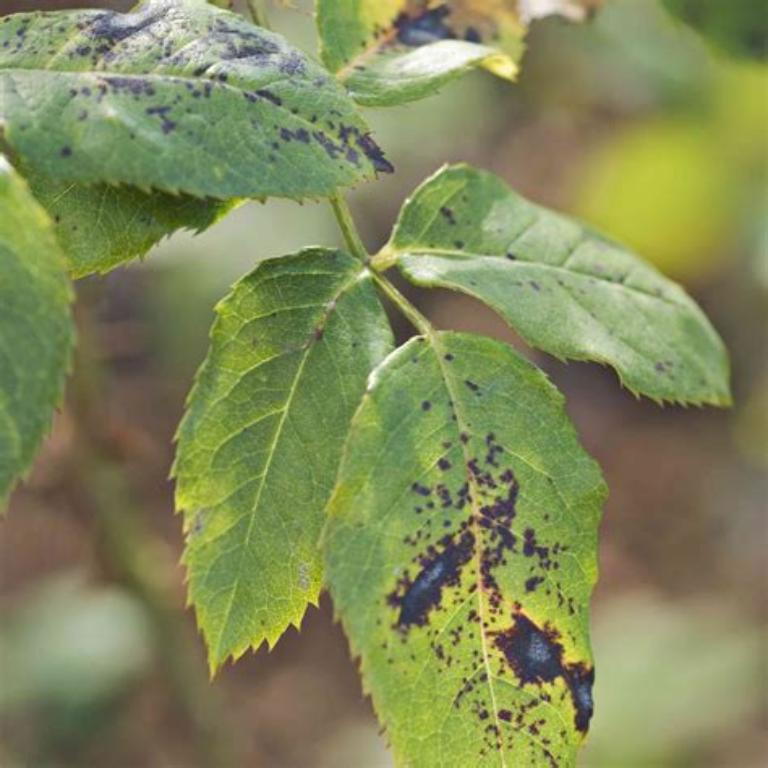blight: (399, 423, 575, 737)
